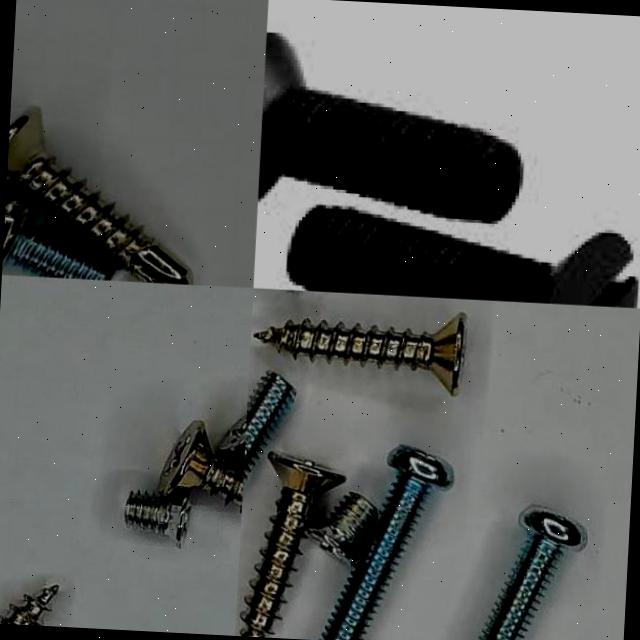Screw: (258, 33, 522, 225), (283, 206, 640, 308), (7, 108, 188, 285), (321, 445, 453, 640), (239, 452, 344, 637), (255, 313, 463, 394), (481, 507, 587, 640), (3, 194, 114, 281), (158, 421, 244, 505), (305, 492, 377, 563), (124, 492, 190, 547), (218, 416, 247, 471)
